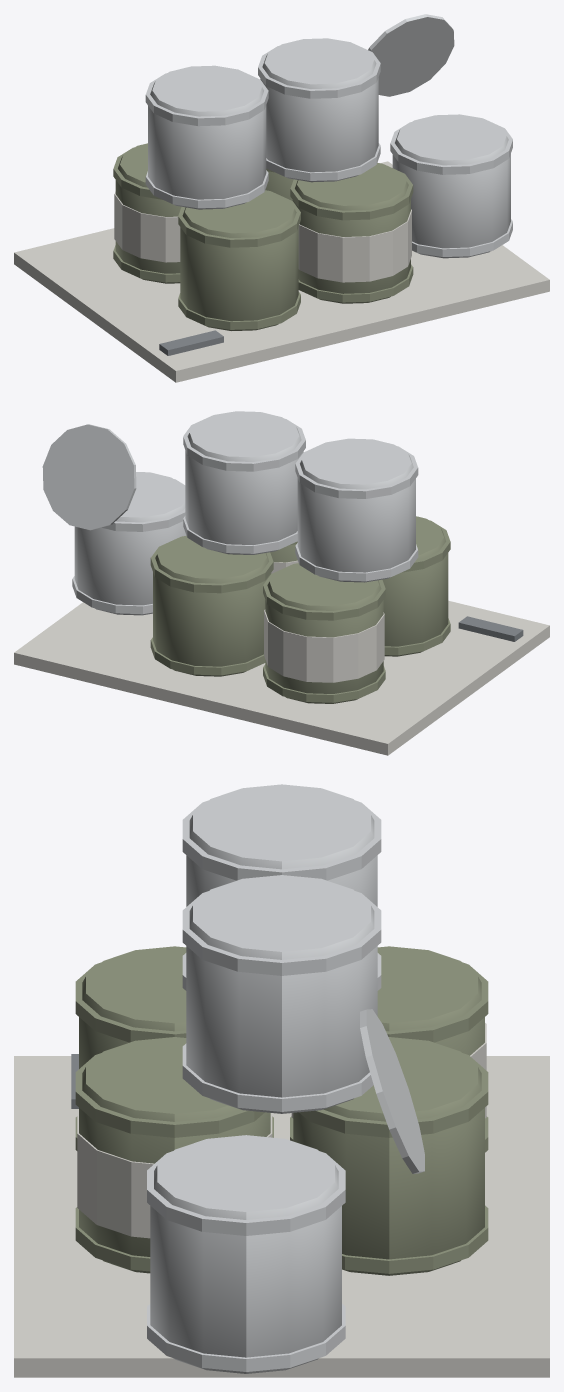
Rendered from cold-war-missile-silo-and-command-bunker-ration-tin-st-05b0b951__15698.glb.
The picture shows the model from 3 angles, top to bottom: view 1: azimuth 30°, elevation 25°; view 2: azimuth 150°, elevation 25°; view 3: azimuth 270°, elevation 25°; orthographic projection. The views are drawn at different scales.
Parts seen in each view (by area): view 1: ration-tin-stack; view 2: ration-tin-stack; view 3: ration-tin-stack.
Part boxes in pixels (x1,y1,x2,y2): ration-tin-stack: (14, 14, 549, 382); ration-tin-stack: (14, 411, 549, 755); ration-tin-stack: (14, 784, 549, 1377).
Size of the model in its own units: 0.427 by 0.212 by 0.3.
